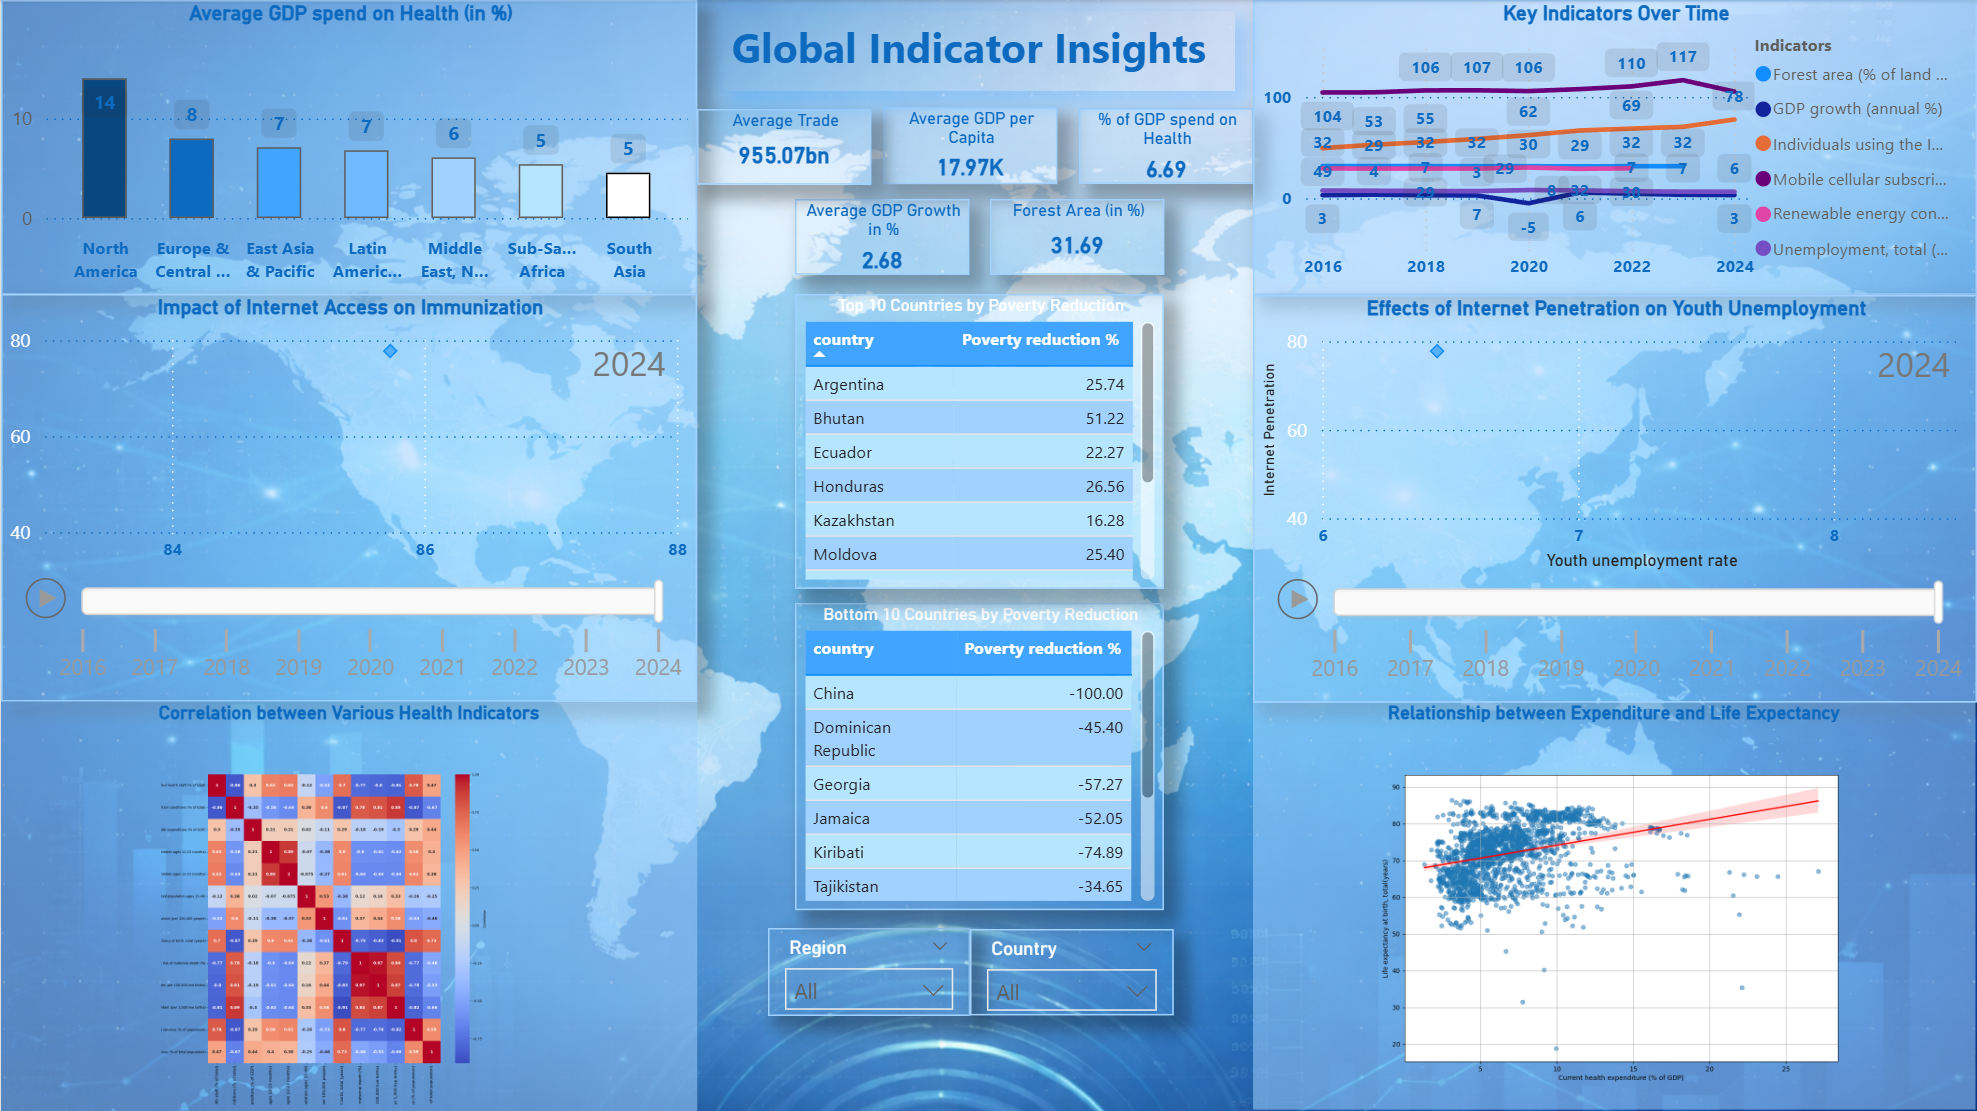

Layout of this report page (visuals, bound fields, positions):
{"tool":"powerbi","page":{"name":"Page 1","canvas":[1280,720],"ordinal":0},"visuals":[{"type":"card","title":"Average GDP per Capita","fields":{"Values":["Avg(economic (2).value)"]},"box":[571.1,69.2,112.8,50.1],"z":0},{"type":"card","title":"% of GDP spend on Health","fields":{"Values":["Avg(health.value)"]},"box":[698.4,69.9,112.8,49.5],"z":1000},{"type":"card","title":"Average GDP Growth in %","fields":{"Values":["Avg(economic (2).value)"]},"box":[514.4,128.6,112.8,49.5],"z":2000},{"type":"card","title":"Forest Area (in %)","fields":{"Values":["Avg(enviornment.value)"]},"box":[640.3,128.6,112.8,49.5],"z":3000},{"type":"clusteredColumnChart","title":"Average GDP spend on Health (in %)","fields":{"Category":["health.region"],"Y":["Avg(health.value)"]},"box":[0,0,451.1,191.2],"z":4000},{"type":"lineChart","title":"Key Indicators Over Time","fields":{"Category":["Line chart.year"],"Y":["Avg(Line chart.value)"],"Series":["Line chart.indicators"]},"box":[811.1,0,468.9,191.2],"z":5000},{"type":"scatterChart","title":"Impact of Internet Access on Immunization","fields":{"X":["Measure.Immunization for Kids"],"Y":["Measure.Internet Penetration"],"Category":["Scatter_plot.year"],"Play":["Scatter_plot.year"]},"box":[0,190.4,450.9,264.3],"z":6000},{"type":"slicer","fields":{"Values":["economic.region"]},"box":[496.6,601.4,130.6,56.7],"z":7000},{"type":"card","title":"Average Trade ","fields":{"Values":["trade.Average of value total for value"]},"box":[451.1,70.6,112.8,49.5],"z":8000},{"type":"scatterChart","title":"Effects of Internet Penetration on Youth Unemployment","fields":{"X":["Measure.Youth unemployment rate"],"Y":["Measure.Internet Penetration"],"Category":["Scatter_plot.year"],"Play":["Scatter_plot.year"]},"box":[811,191.1,469,263.6],"z":9000},{"type":"tableEx","title":"Bottom 10 Countries by Poverty Reduction  ","fields":{"Values":["poverty.country","Measure.Poverty reduction %"]},"box":[514.4,390.4,238.7,199.2],"z":10000},{"type":"tableEx","title":"Top 10 Countries by Poverty Reduction  ","fields":{"Values":["poverty.country","Measure.Poverty reduction %"]},"box":[514.4,190.6,238.7,191.2],"z":11000},{"type":"slicer","fields":{"Values":["country.country"]},"box":[627.8,602.1,131.9,56.1],"z":12000},{"type":"pythonVisual","title":"Correlation between Various Health Indicators","fields":{"Values":["health.country","health.indicators","health.value","health.year","health.region"]},"box":[0,454.7,450.9,265.6],"z":13000},{"type":"pythonVisual","title":"Relationship between Expenditure and Life Expectancy","fields":{"Values":["health.country","health.year","health.value","health.indicators"]},"box":[811,454.7,467.7,264.3],"z":14000},{"type":"textbox","box":[468.2,7.3,331,52.1],"z":15000}]}

Visuals, with their boxes in screenshot pixels (x1, y1, x2, y2), scaled from the page's 1280x720 canvas onto the 1977x1111 screenshot:
"Average GDP per Capita" card: left=882, top=107, right=1056, bottom=184
"% of GDP spend on Health" card: left=1079, top=108, right=1253, bottom=184
"Average GDP Growth in %" card: left=795, top=198, right=969, bottom=275
"Forest Area (in %)" card: left=989, top=198, right=1163, bottom=275
"Average GDP spend on Health (in %)" clusteredColumnChart: left=0, top=0, right=697, bottom=295
"Key Indicators Over Time" lineChart: left=1253, top=0, right=1976, bottom=295
"Impact of Internet Access on Immunization" scatterChart: left=0, top=294, right=696, bottom=702
slicer - economic.region: left=767, top=928, right=969, bottom=1015
"Average Trade " card: left=697, top=109, right=871, bottom=185
"Effects of Internet Penetration on Youth Unemployment" scatterChart: left=1253, top=295, right=1976, bottom=702
"Bottom 10 Countries by Poverty Reduction  " tableEx: left=795, top=602, right=1163, bottom=910
"Top 10 Countries by Poverty Reduction  " tableEx: left=795, top=294, right=1163, bottom=589
slicer - country.country: left=970, top=929, right=1173, bottom=1016
"Correlation between Various Health Indicators" pythonVisual: left=0, top=702, right=696, bottom=1110
"Relationship between Expenditure and Life Expectancy" pythonVisual: left=1253, top=702, right=1975, bottom=1109
textbox: left=723, top=11, right=1234, bottom=92
